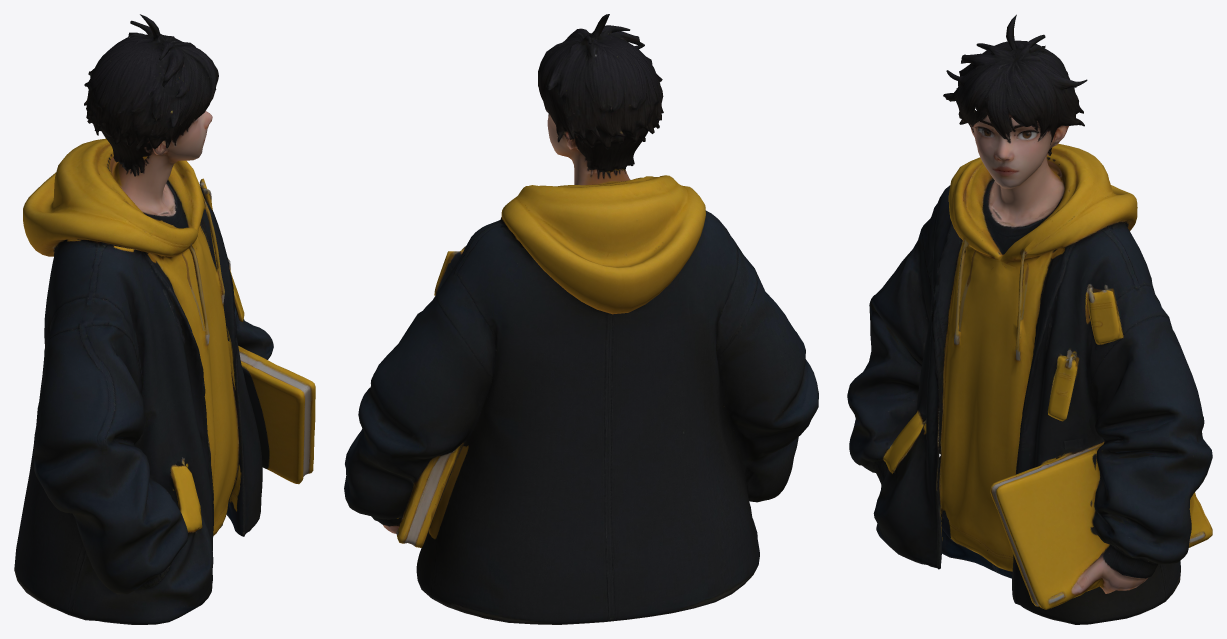
Rendered from stylized character 3d model_Clone1.glb.
3 renders of one model, left to right at view 1: azimuth 30°, elevation 25°; view 2: azimuth 150°, elevation 25°; view 3: azimuth 270°, elevation 25°, orthographic. The views are drawn at different scales.
Parts seen in each view (by area): view 1: tripo_node_fb7288d6; view 2: tripo_node_fb7288d6; view 3: tripo_node_fb7288d6.
Boxes of the visible parts, left/top/right/bottom form: tripo_node_fb7288d6: left=14, top=14, right=315, bottom=624; tripo_node_fb7288d6: left=344, top=14, right=818, bottom=624; tripo_node_fb7288d6: left=847, top=14, right=1212, bottom=624.
Bounding box in the file's own units: 0.6527 × 0.9989 × 0.6132.
1 material, 1 textured.
